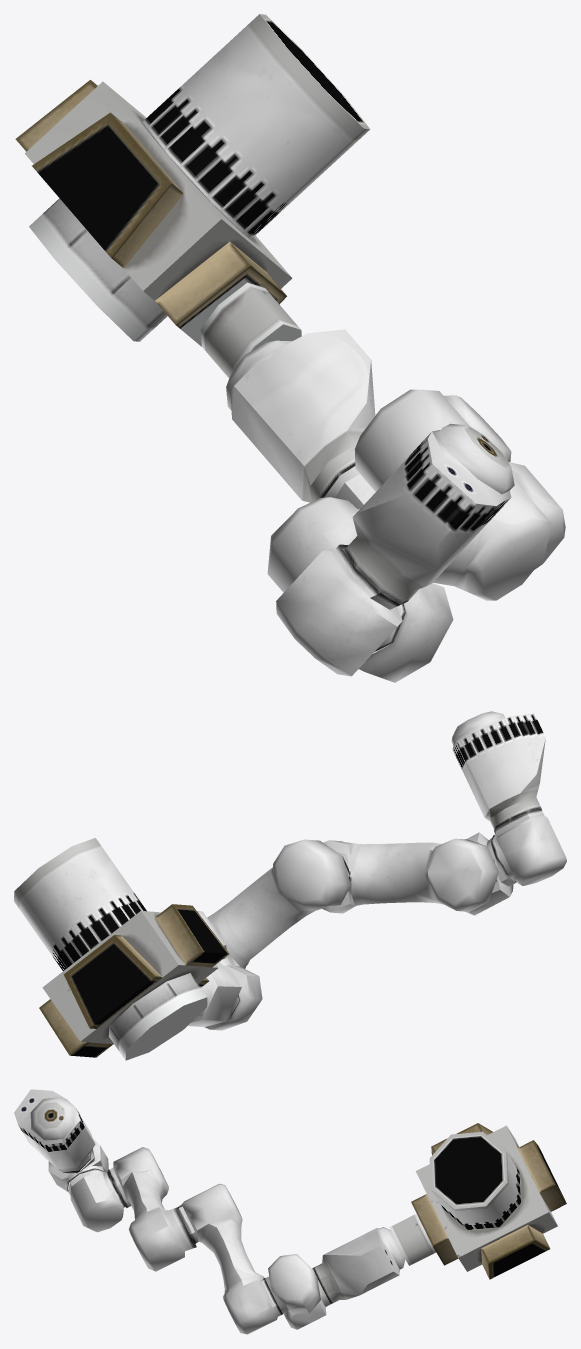
Rendered from little_arm.dae.
3 views of the same model, one above another, from view 1: azimuth 30°, elevation 25°; view 2: azimuth 150°, elevation 25°; view 3: azimuth 270°, elevation 25° (orthographic). The views are drawn at different scales.
Visible parts, largest first — view 1: Little_Arm_1, Little_Arm_2, Little_Arm_9, Little_Arm_6, Little_Arm_8, Little_Arm_5, Little_Arm_7, Little_Arm_3, Little_Arm_4; view 2: Little_Arm_1, Little_Arm_6, Little_Arm_5, Little_Arm_9, Little_Arm_8, Little_Arm_2, Little_Arm_3, Little_Arm_7; view 3: Little_Arm_1, Little_Arm_5, Little_Arm_6, Little_Arm_9, Little_Arm_2, Little_Arm_7, Little_Arm_4, Little_Arm_8, Little_Arm_3.
Part boxes in pixels (x1,y1,x2,y2): Little_Arm_1: (15,14,370,378); Little_Arm_2: (226,329,375,502); Little_Arm_9: (344,423,514,604); Little_Arm_6: (267,479,550,600); Little_Arm_8: (276,544,406,676); Little_Arm_5: (354,389,565,569); Little_Arm_7: (359,583,453,682); Little_Arm_3: (324,466,375,509); Little_Arm_4: (444,395,511,461); Little_Arm_1: (14,838,229,1060); Little_Arm_6: (322,838,498,913); Little_Arm_5: (207,839,351,968); Little_Arm_9: (451,711,545,829); Little_Arm_8: (490,809,566,885); Little_Arm_2: (188,962,241,1027); Little_Arm_3: (205,958,262,1030); Little_Arm_7: (466,832,515,915); Little_Arm_1: (389,1123,566,1279); Little_Arm_5: (177,1183,283,1334); Little_Arm_6: (108,1147,196,1271); Little_Arm_9: (14,1089,95,1172); Little_Arm_2: (313,1227,405,1303); Little_Arm_7: (68,1169,125,1232); Little_Arm_4: (265,1254,320,1313); Little_Arm_8: (48,1139,108,1192); Little_Arm_3: (283,1268,330,1329).
Size of the model in its own units: 1.17 by 2.45 by 1.01.
Materials: 1 (1 with a texture image).
